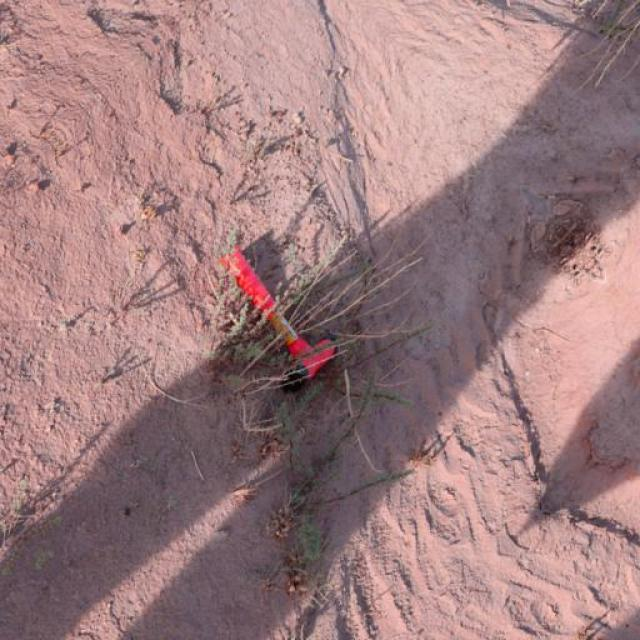mallet: (218, 245, 338, 386)
